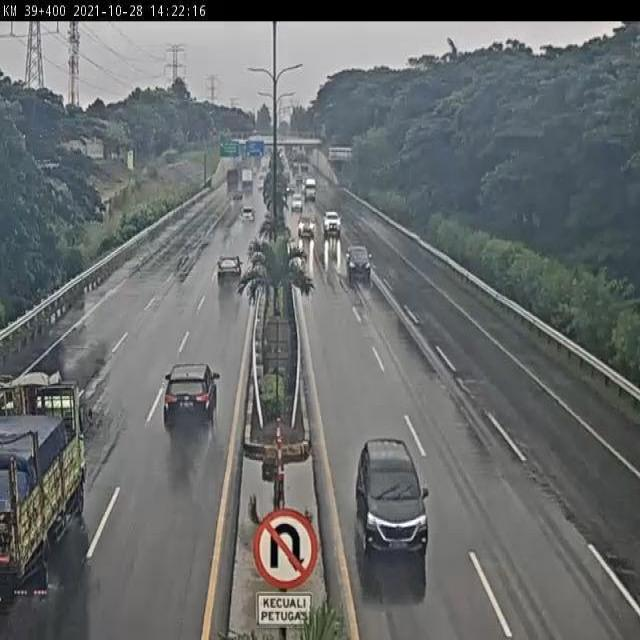car: (355, 437, 429, 564), (161, 361, 218, 436), (344, 244, 372, 279), (217, 250, 243, 282), (296, 210, 316, 238), (321, 211, 342, 237), (238, 206, 257, 226), (290, 193, 304, 211)
truck-l-: (0, 376, 89, 604)
